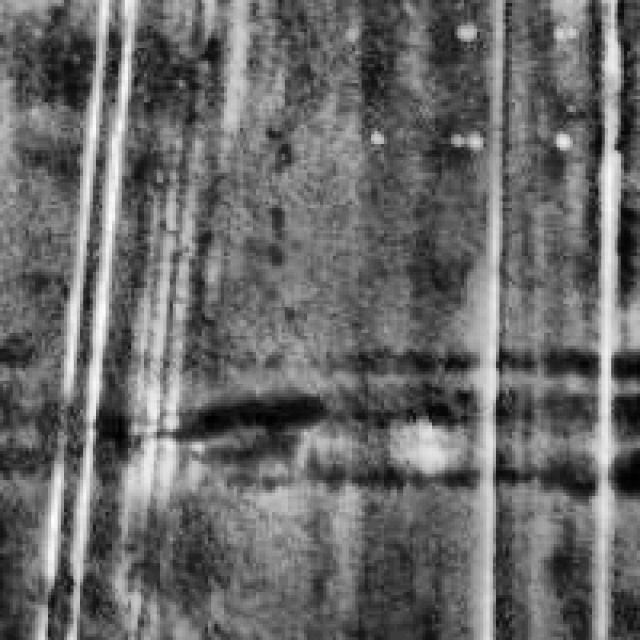Inclusion: (38, 0, 141, 621), (461, 6, 509, 637), (588, 0, 618, 634)
Patches: (35, 381, 317, 480)
